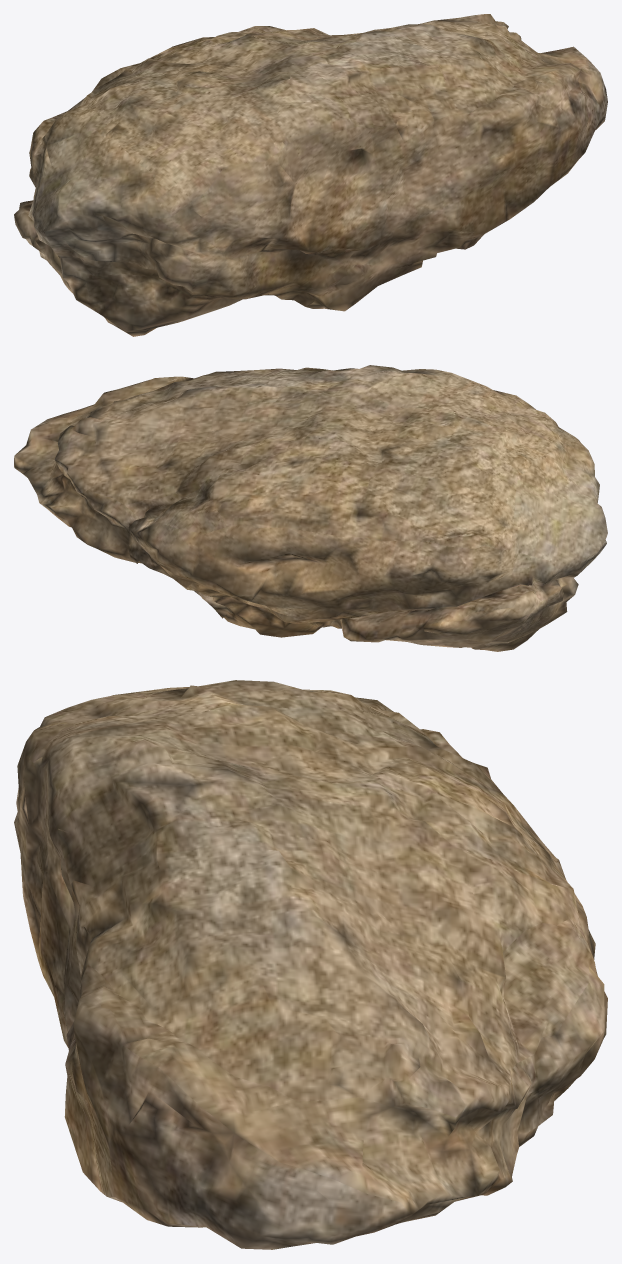
The model's file is namaqualand_boulder_05.glb.
3 views of the same model, one above another, from view 1: azimuth 30°, elevation 25°; view 2: azimuth 150°, elevation 25°; view 3: azimuth 270°, elevation 25° (orthographic). The views are drawn at different scales.
Visible parts, largest first — view 1: namaqualand_boulder_05; view 2: namaqualand_boulder_05; view 3: namaqualand_boulder_05.
Part boxes in pixels (left/top/right/bottom): namaqualand_boulder_05: left=14, top=14, right=607, bottom=336; namaqualand_boulder_05: left=14, top=365, right=607, bottom=651; namaqualand_boulder_05: left=14, top=680, right=607, bottom=1249.
Size of the model in its own units: 1.36 by 0.5337 by 0.7462.
1 material, 1 textured.
